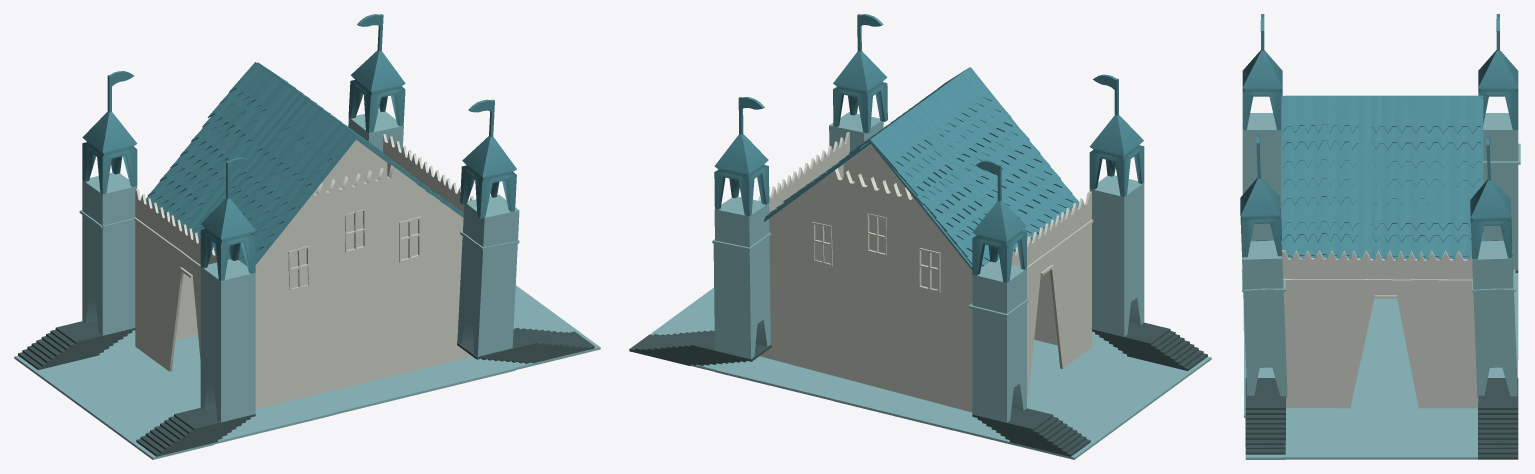
File: house.fbx
The picture shows the model from 3 angles, left to right: view 1: azimuth 30°, elevation 25°; view 2: azimuth 150°, elevation 25°; view 3: azimuth 270°, elevation 25°; orthographic projection.
Parts seen in each view (by area): view 1: pCube317; view 2: pCube317; view 3: pCube317.
Part boxes in pixels (x1,y1,x2,y2): pCube317: (14, 14, 600, 459); pCube317: (629, 14, 1211, 459); pCube317: (1240, 14, 1520, 459).
Size of the model in its own units: 12.86 by 7.42 by 6.98.
